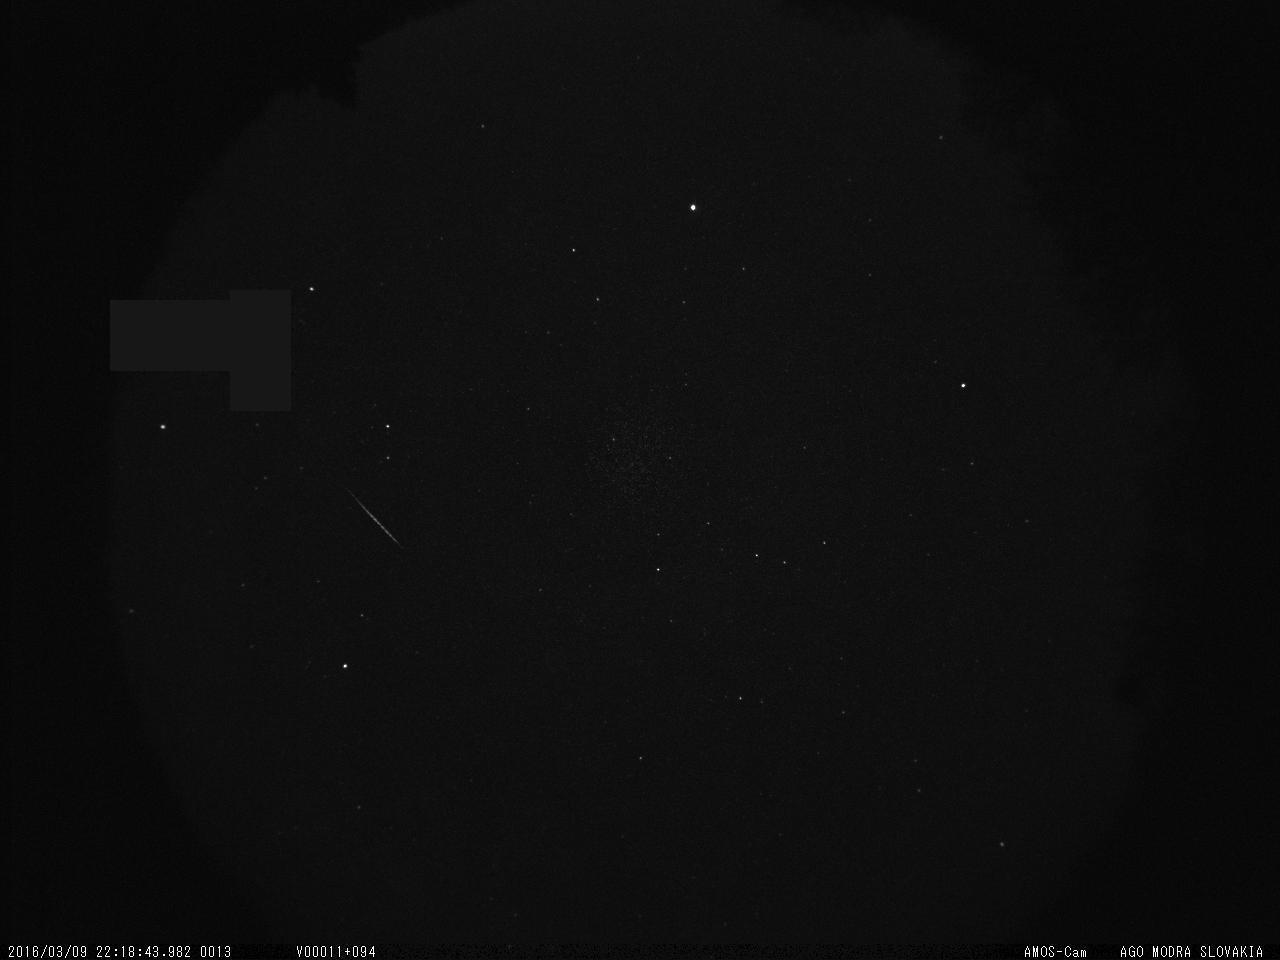meteor: (341, 479, 411, 560)
